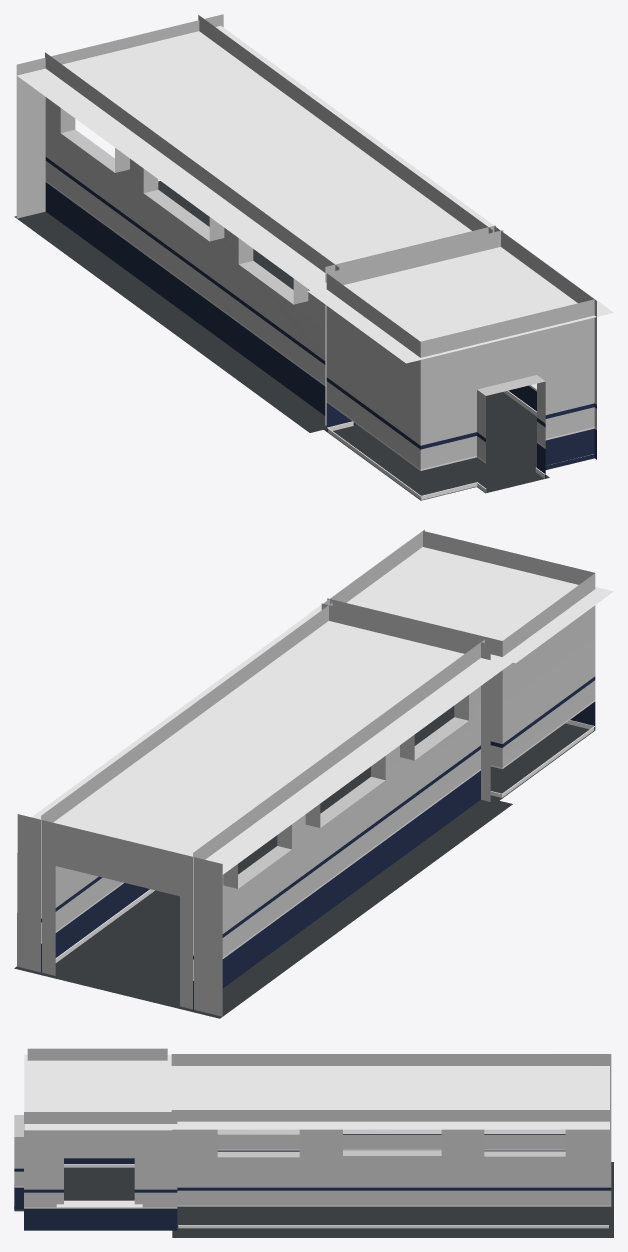
File: SM_H_Building_Tide_PrisonMainInter_05_ATLAS.fbx
3 views of the same model, one above another, from view 1: azimuth 30°, elevation 25°; view 2: azimuth 150°, elevation 25°; view 3: azimuth 270°, elevation 25° (orthographic). The views are drawn at different scales.
Parts seen in each view (by area): view 1: SM_H_Building_Tide_PrisonMainInter_05_ATLAS; view 2: SM_H_Building_Tide_PrisonMainInter_05_ATLAS; view 3: SM_H_Building_Tide_PrisonMainInter_05_ATLAS.
Part boxes in pixels (bbox=[...]): SM_H_Building_Tide_PrisonMainInter_05_ATLAS: bbox=[14, 14, 613, 500]; SM_H_Building_Tide_PrisonMainInter_05_ATLAS: bbox=[14, 529, 613, 1018]; SM_H_Building_Tide_PrisonMainInter_05_ATLAS: bbox=[14, 1048, 613, 1237].
Size of the model in its own units: 693 by 2292 by 500.
